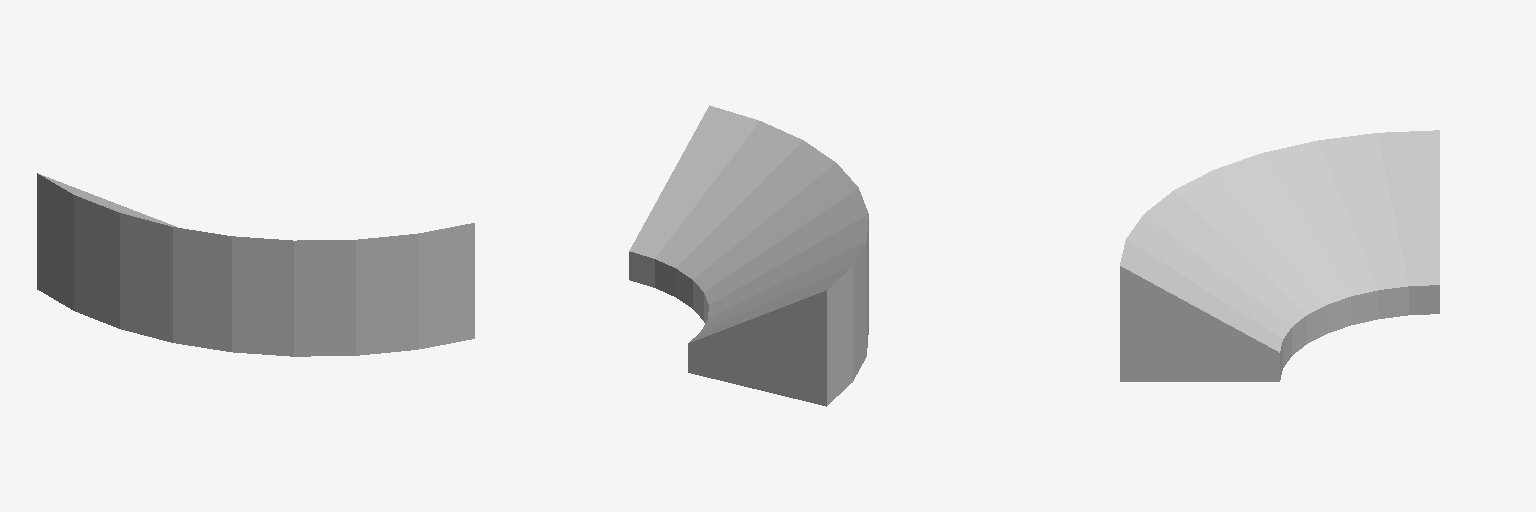
Rendered from big_bend_angled.obj.
The picture shows the model from 3 angles: view 1: azimuth 30°, elevation 25°; view 2: azimuth 150°, elevation 25°; view 3: azimuth 270°, elevation 25°; orthographic projection.
Parts seen in each view (by area): view 1: Cylinder_Cylinder.001; view 2: Cylinder_Cylinder.001; view 3: Cylinder_Cylinder.001.
Boxes of the visible parts, <box> form: Cylinder_Cylinder.001: <box>37,173,474,356</box>; Cylinder_Cylinder.001: <box>629,105,868,406</box>; Cylinder_Cylinder.001: <box>1120,130,1439,381</box>.
Size of the model in its own units: 1 by 0.4 by 1.